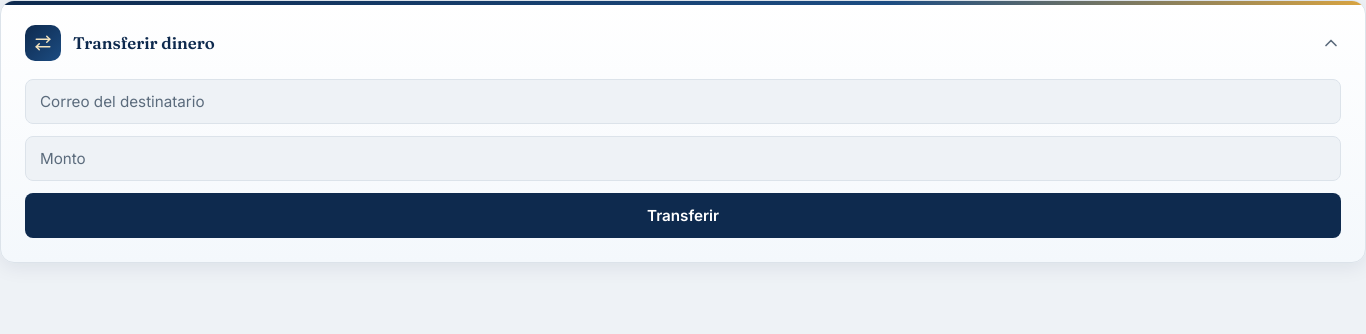
Test: FormularioTransferencia › muestra un error cuando el monto supera el limite de operacion
This screenshot has width=1366, height=334.
Step 1. Type "felipe@cbank.cl" into the field with placeholder "Correo del destinatario" → (683, 102), box x1=25 y1=79 x2=1341 y2=124
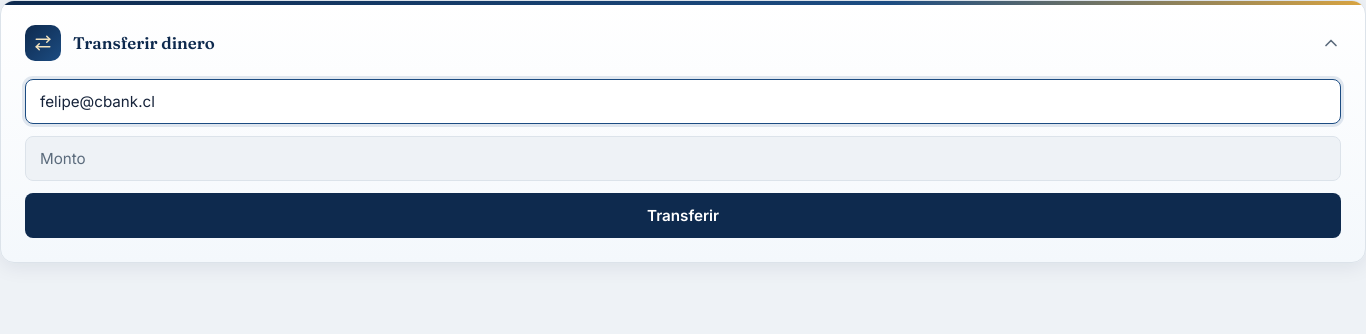
Step 2. Type "6000000" into the number field with placeholder "Monto" → (683, 158), box x1=25 y1=136 x2=1341 y2=181
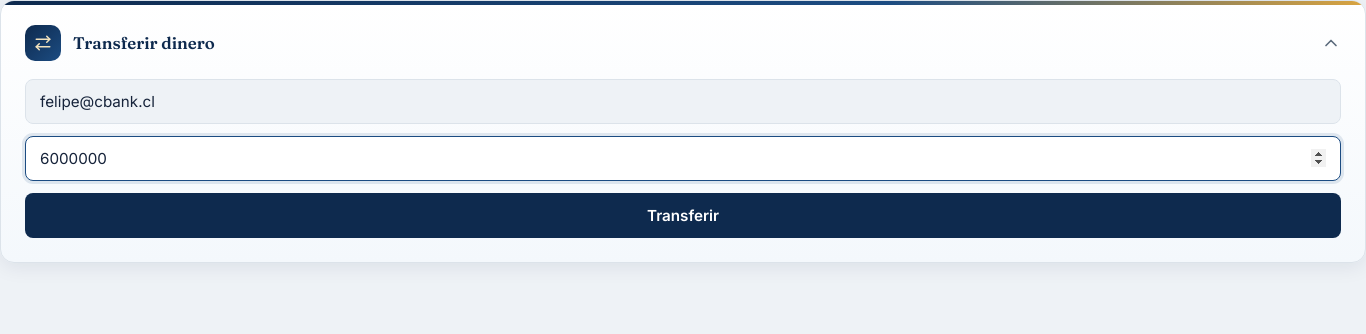
Step 3. Click the button "Transferir" → (683, 216), box x1=25 y1=193 x2=1341 y2=238
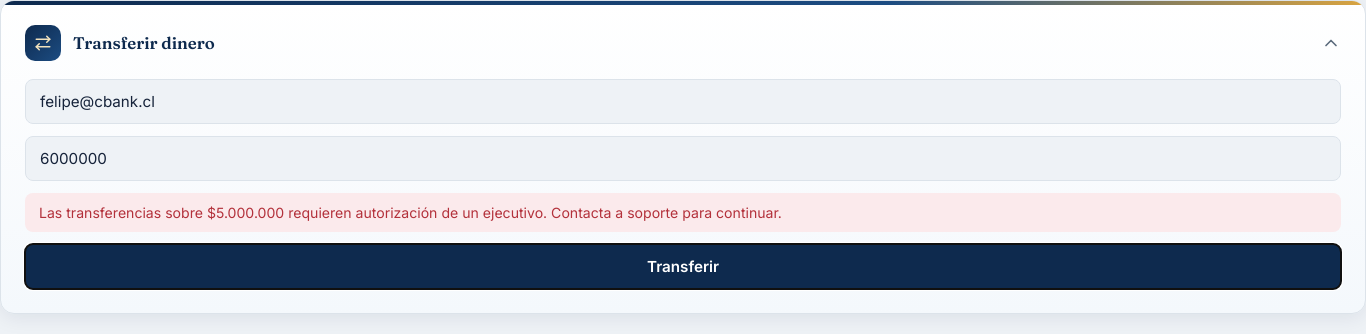
Now the text "requieren autorización de un ejecutivo" is shown, box x1=39 y1=204 x2=782 y2=221
